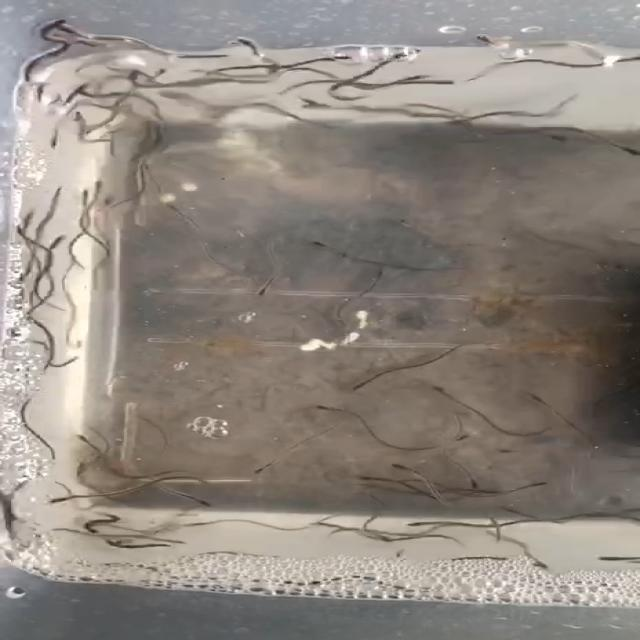inactive_glass_eel: (34, 21, 96, 43), (318, 372, 371, 394), (115, 66, 152, 91), (367, 48, 413, 68), (427, 425, 476, 442), (48, 236, 82, 260), (214, 36, 256, 55), (245, 276, 287, 295), (598, 142, 638, 161), (74, 194, 120, 210), (292, 402, 344, 416), (475, 30, 505, 54), (45, 488, 81, 508), (143, 539, 181, 557), (243, 462, 279, 479), (73, 79, 94, 108), (402, 518, 440, 534), (193, 498, 228, 515), (160, 199, 194, 216), (315, 53, 358, 66), (386, 460, 419, 476), (349, 474, 384, 489), (491, 446, 528, 460), (32, 21, 68, 35), (56, 112, 98, 124), (414, 385, 456, 395), (458, 475, 486, 490), (309, 240, 333, 257), (152, 68, 172, 86), (519, 392, 541, 403), (90, 180, 106, 192), (542, 131, 558, 142)
